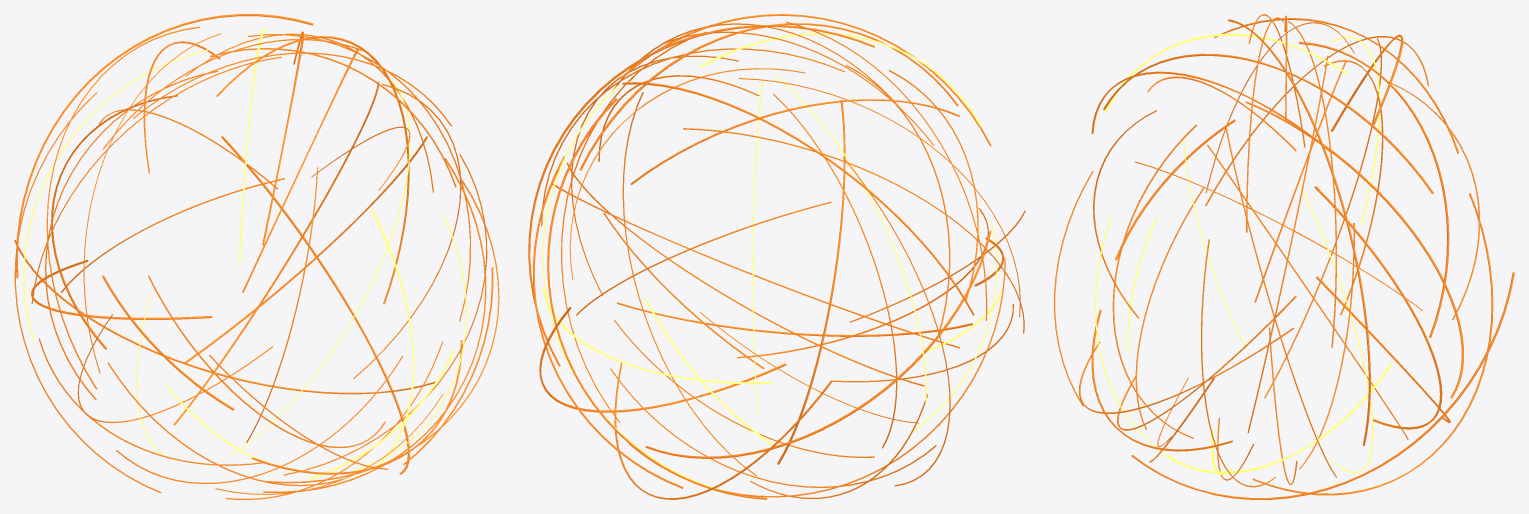
The model's file is ev_v3_outer_lattice.glb.
3 views of the same model, side by side, from view 1: azimuth 30°, elevation 25°; view 2: azimuth 150°, elevation 25°; view 3: azimuth 270°, elevation 25° (orthographic). The views are drawn at different scales.
Parts seen in each view (by area): view 1: outer_dim_lattice, outer_bright_lattice; view 2: outer_dim_lattice, outer_bright_lattice; view 3: outer_dim_lattice, outer_bright_lattice.
Part boxes in pixels (box(x1,y1,x2,y2)): outer_dim_lattice: box(14, 14, 499, 499); outer_bright_lattice: box(23, 27, 466, 479); outer_dim_lattice: box(528, 14, 1025, 499); outer_bright_lattice: box(542, 33, 1002, 490); outer_dim_lattice: box(1054, 14, 1514, 499); outer_bright_lattice: box(1095, 33, 1392, 474).
Size of the model in its own units: 499 by 483 by 470.
